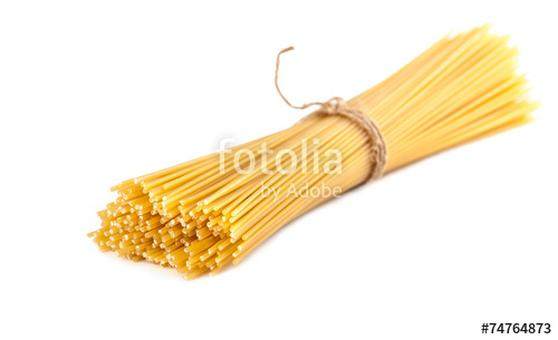spaghetti: (92, 18, 553, 278)
